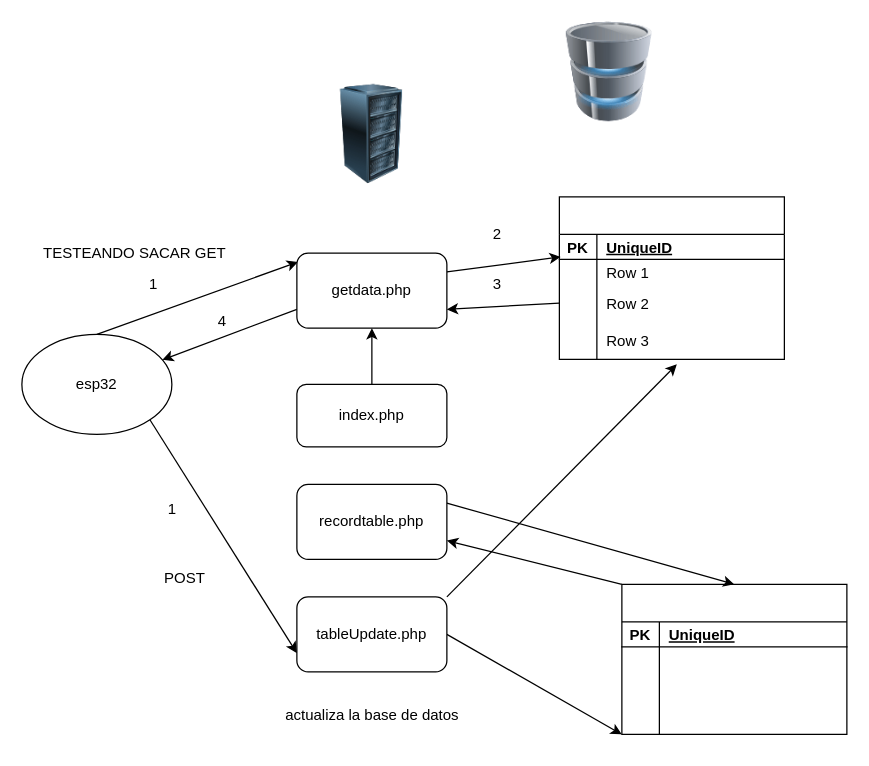
Image size: 869x766. Some labels were removed from this diagram. Each missing label, with the box of its shape:
esp32_01_tablerecord: (621, 583, 847, 734)
esp32_01_tableupdate: (558, 196, 784, 359)
